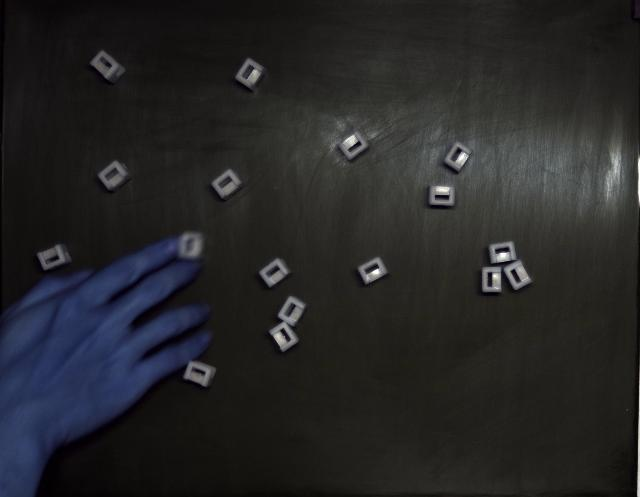fourth_side: (90, 50, 125, 84), (98, 160, 134, 191), (235, 58, 266, 91), (211, 169, 244, 200), (36, 244, 71, 271), (269, 321, 299, 352), (259, 259, 291, 288), (182, 361, 216, 388), (278, 296, 308, 326), (338, 131, 369, 160), (444, 141, 472, 172), (358, 258, 388, 285), (504, 260, 531, 290), (489, 241, 516, 264), (429, 185, 455, 206), (482, 266, 501, 292)
